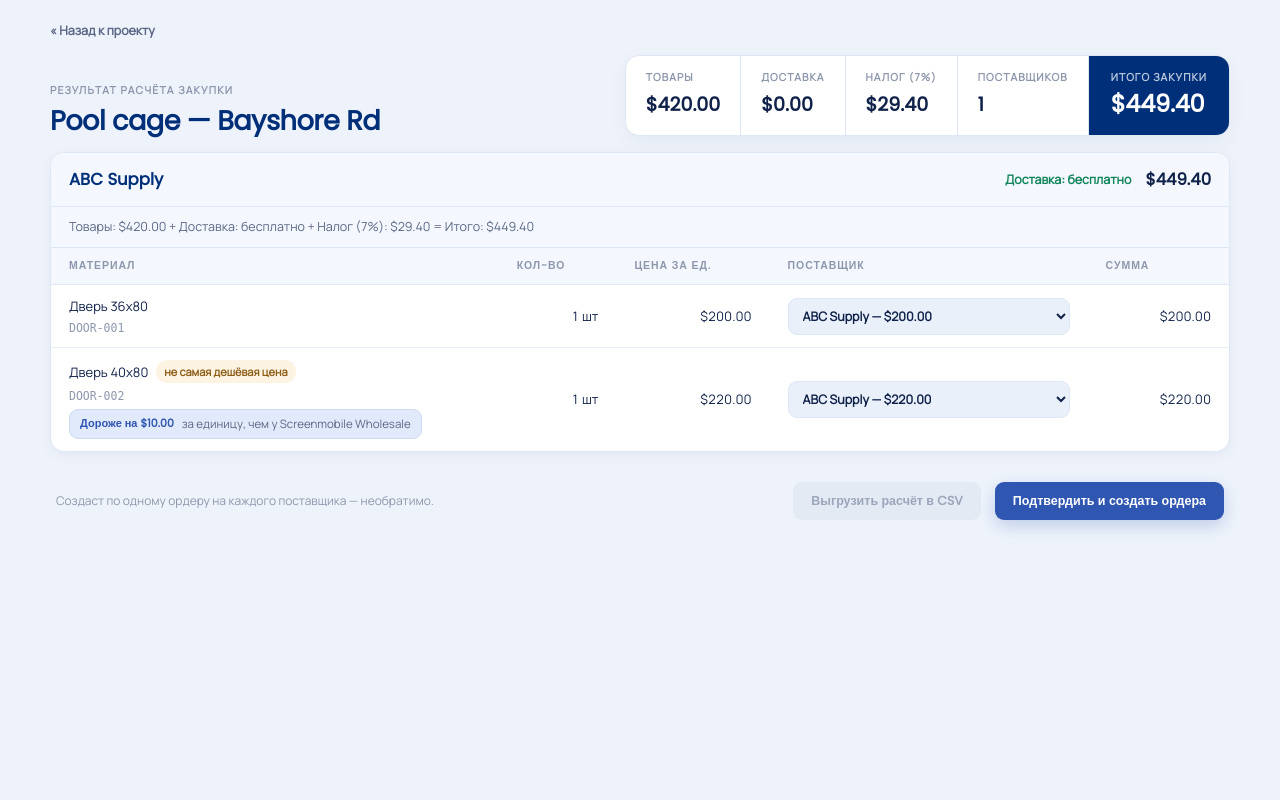
AllocationResultPage › updates the split-category warning reactively after an override, without a page reload
The width and height of the screenshot is (1280, 800).
Check: the text "Дверь 36x80" is shown, box 69,297 -> 148,315
Check: the text "разбита между" is not shown
Select "Screenmobile Wholesale — $210.00" in the dropdown in the row of "DOOR-002" at (929, 399), box 788,381 -> 1070,418
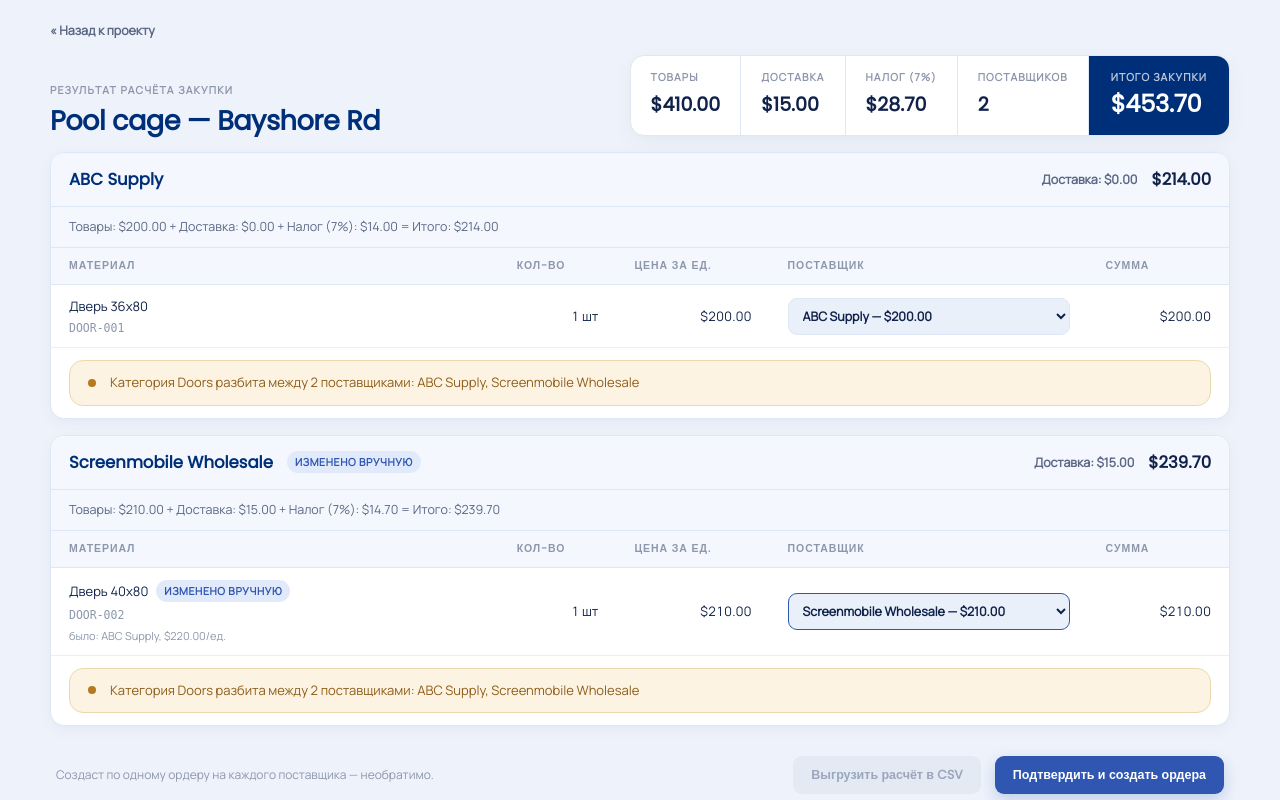
Check: the text "Категория Doors разбита между 2 поставщиками" is shown 2 times, box 110,373 -> 639,391; 110,680 -> 639,698
